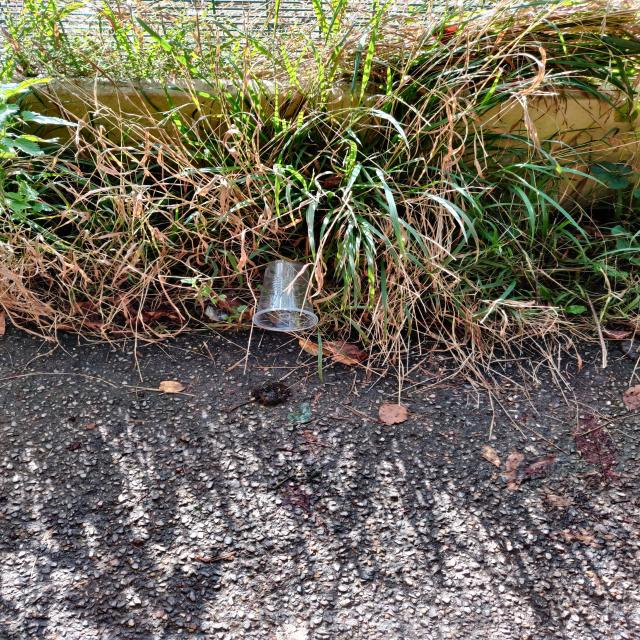litter: (211, 213, 333, 371)
